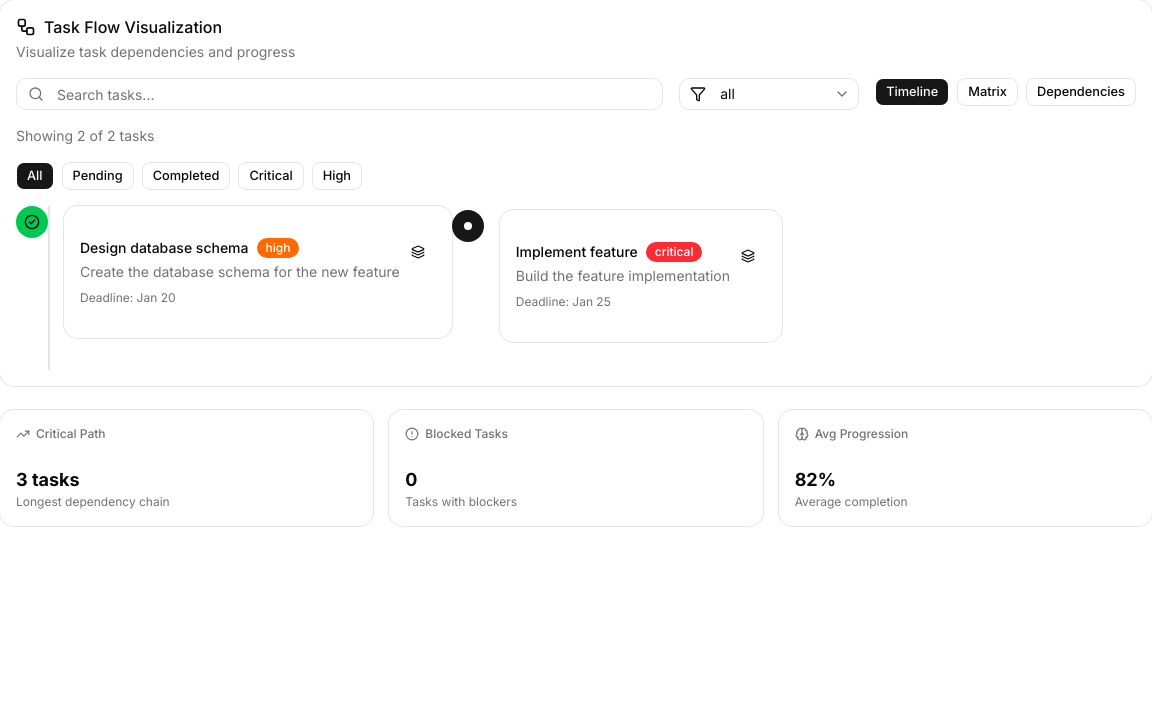
TaskFlowVisualization - Edge Cases › handles filter changes
Click the dropdown at [769, 94], box [679, 78, 859, 110]
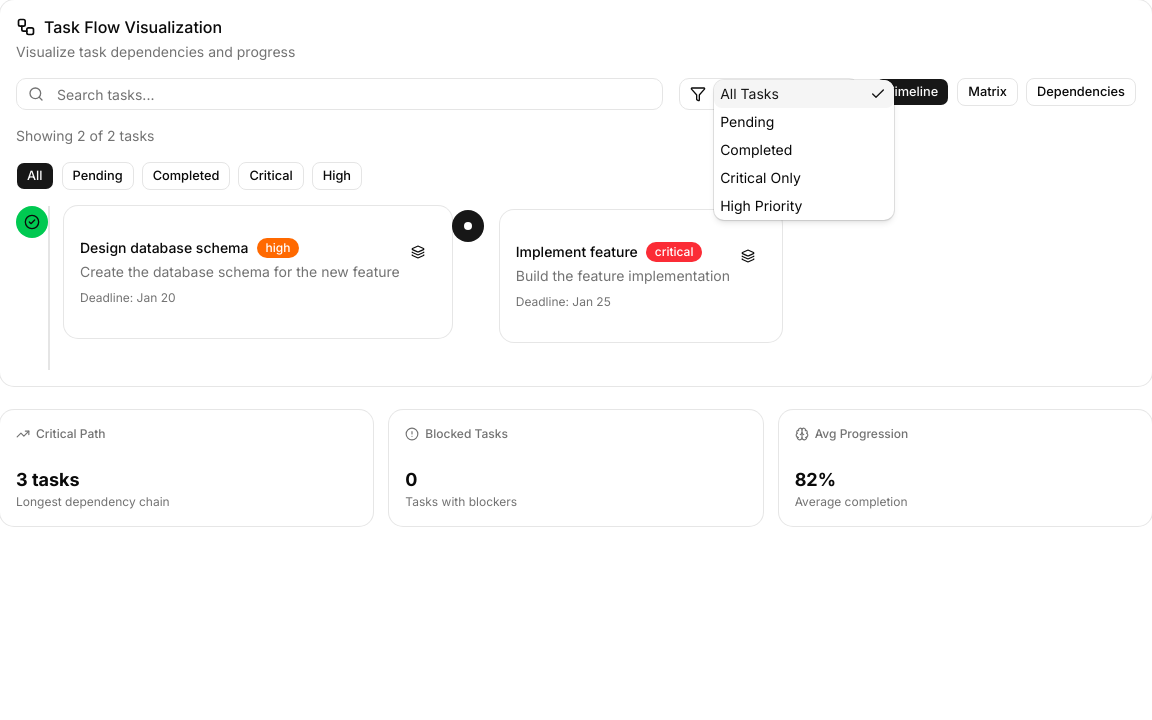
Expected: the text "All Tasks" is shown, [720, 85, 779, 102]
